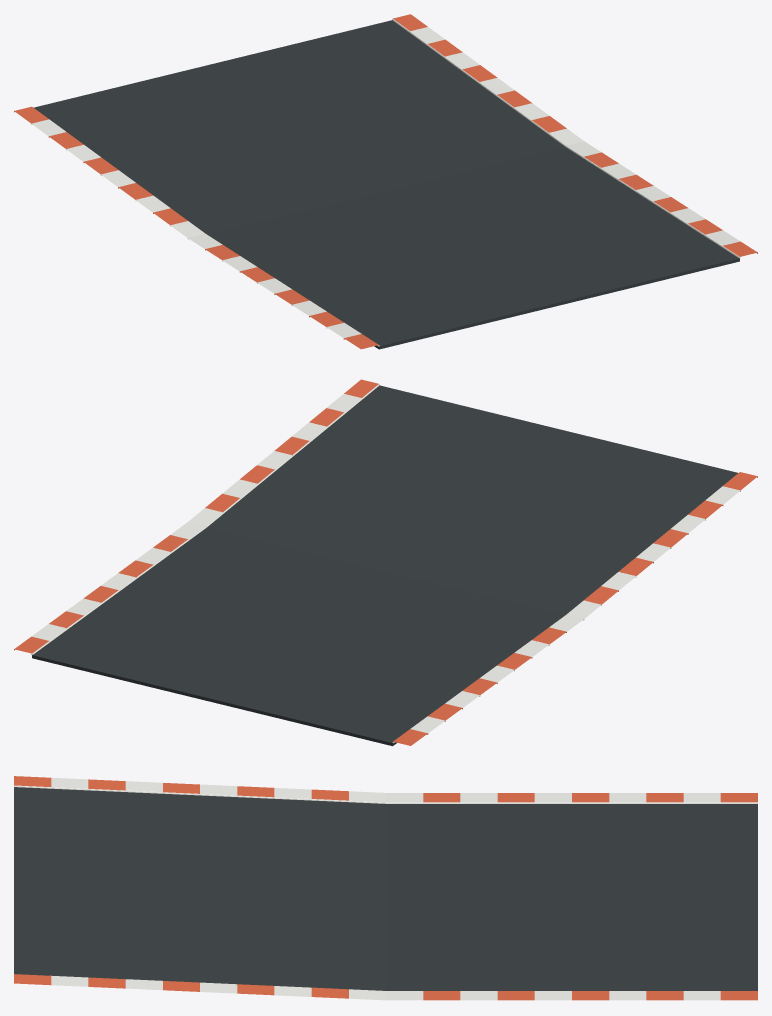
File: grand-prix-circuit-and-open-wheel-gradient-transition-a4e955cc__15197.glb
3 views of the same model, one above another, from view 1: azimuth 30°, elevation 25°; view 2: azimuth 150°, elevation 25°; view 3: azimuth 270°, elevation 25° (orthographic). The views are drawn at different scales.
Parts seen in each view (by area): view 1: gradient-transition; view 2: gradient-transition; view 3: gradient-transition.
Part boxes in pixels (x1,y1,x2,y2): gradient-transition: (14, 14, 757, 349); gradient-transition: (14, 379, 757, 746); gradient-transition: (14, 776, 757, 1000).
Bounding box in the file's own units: 13.2 × 0.645 × 20.
